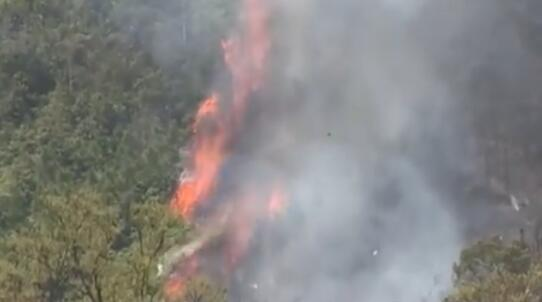fire: (160, 1, 281, 294)
yanwu: (209, 0, 537, 299)
